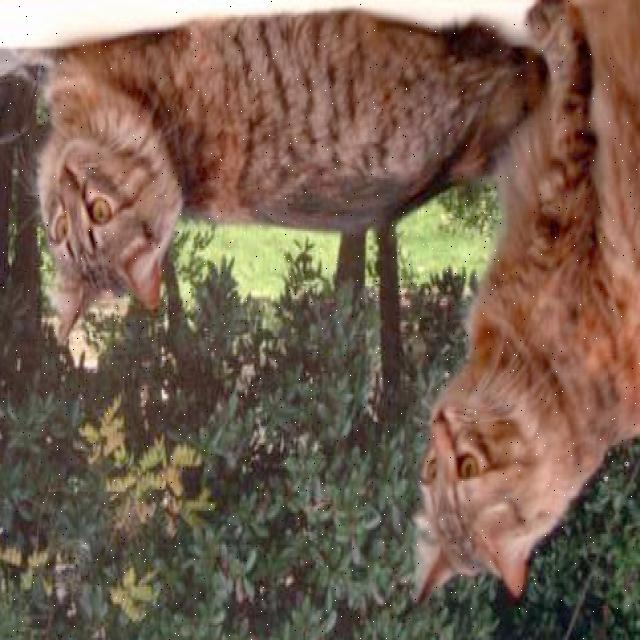Cat: (412, 380, 539, 614), (42, 136, 166, 354)
